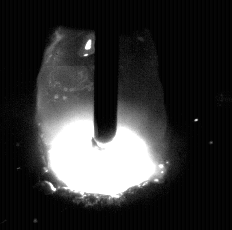arame: (95, 0, 119, 143)
poca: (38, 0, 169, 230)
